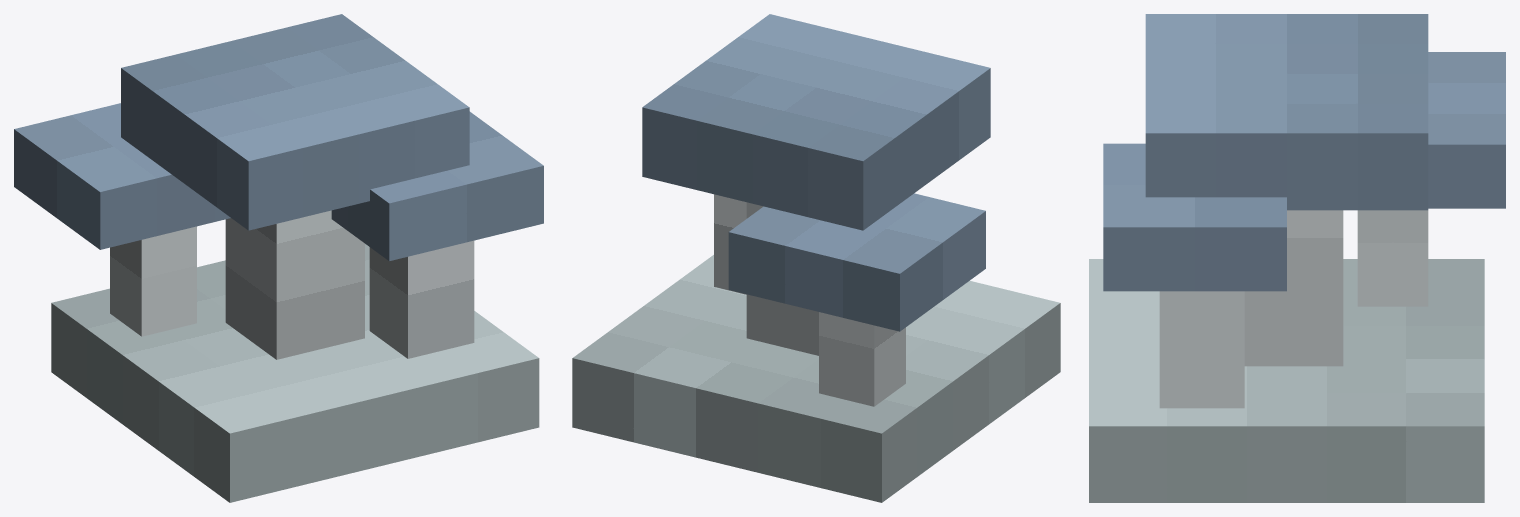
File: motoko.gltf
3 renders of one model, left to right at view 1: azimuth 30°, elevation 25°; view 2: azimuth 150°, elevation 25°; view 3: azimuth 270°, elevation 25°, orthographic. The views are drawn at different scales.
Parts seen in each view (by area): view 1: base, cap_a, cap_c, stem_a, cap_b, stem_b, stem_c; view 2: base, cap_a, cap_c, stem_c, stem_a, stem_b; view 3: base, cap_a, cap_b, cap_c, stem_a, stem_b, stem_c.
Boxes of the visible parts, x1,y1,x2,y2 form: base: [51, 244, 539, 502]; cap_a: [121, 14, 469, 230]; cap_c: [14, 103, 230, 249]; stem_a: [225, 210, 364, 359]; cap_b: [331, 111, 543, 261]; stem_b: [369, 240, 474, 358]; stem_c: [110, 226, 196, 336]; base: [572, 255, 1060, 502]; cap_a: [642, 14, 990, 230]; cap_c: [728, 193, 985, 331]; stem_c: [819, 312, 905, 406]; stem_a: [746, 202, 818, 355]; stem_b: [714, 194, 746, 294]; base: [1089, 259, 1484, 502]; cap_a: [1145, 14, 1428, 210]; cap_b: [1103, 143, 1286, 291]; cap_c: [1428, 52, 1505, 208]; stem_a: [1244, 210, 1343, 366]; stem_b: [1159, 291, 1244, 408]; stem_c: [1357, 210, 1428, 306].
Size of the model in its own units: 0.3937 by 0.3375 by 0.3687.
1 material, 1 textured.
